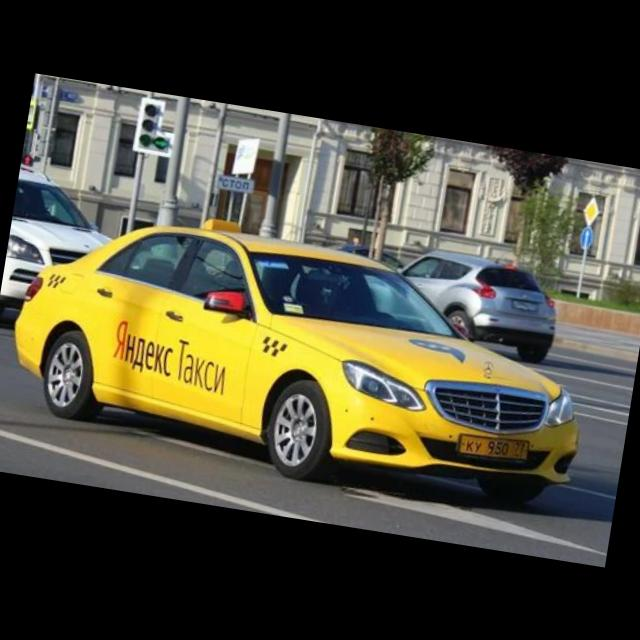taxi: (1, 190, 604, 522)
